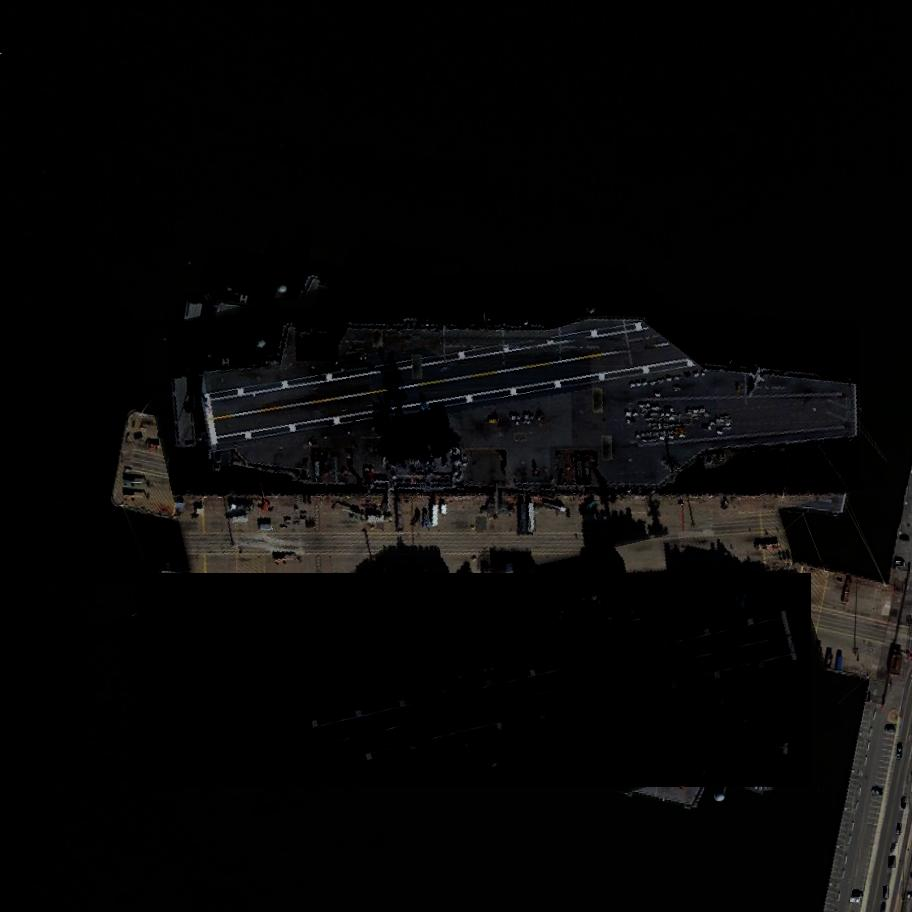plane: (730, 669, 766, 702)
ship: (138, 562, 812, 787), (170, 321, 859, 492)
small-vehicle: (888, 856, 897, 869), (891, 843, 900, 855), (885, 725, 897, 734), (872, 789, 883, 797), (852, 892, 864, 898), (884, 886, 889, 899), (897, 744, 902, 757), (851, 897, 860, 902), (897, 824, 902, 832), (896, 563, 903, 566), (902, 798, 904, 807)
